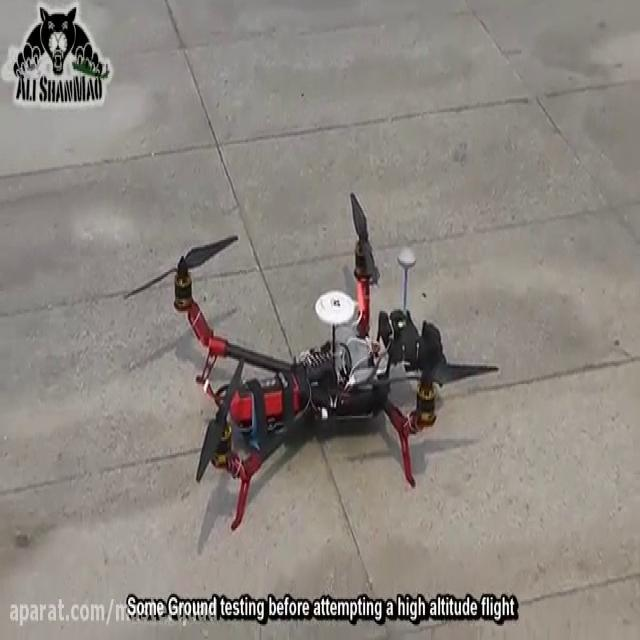drone: (121, 183, 502, 535)
